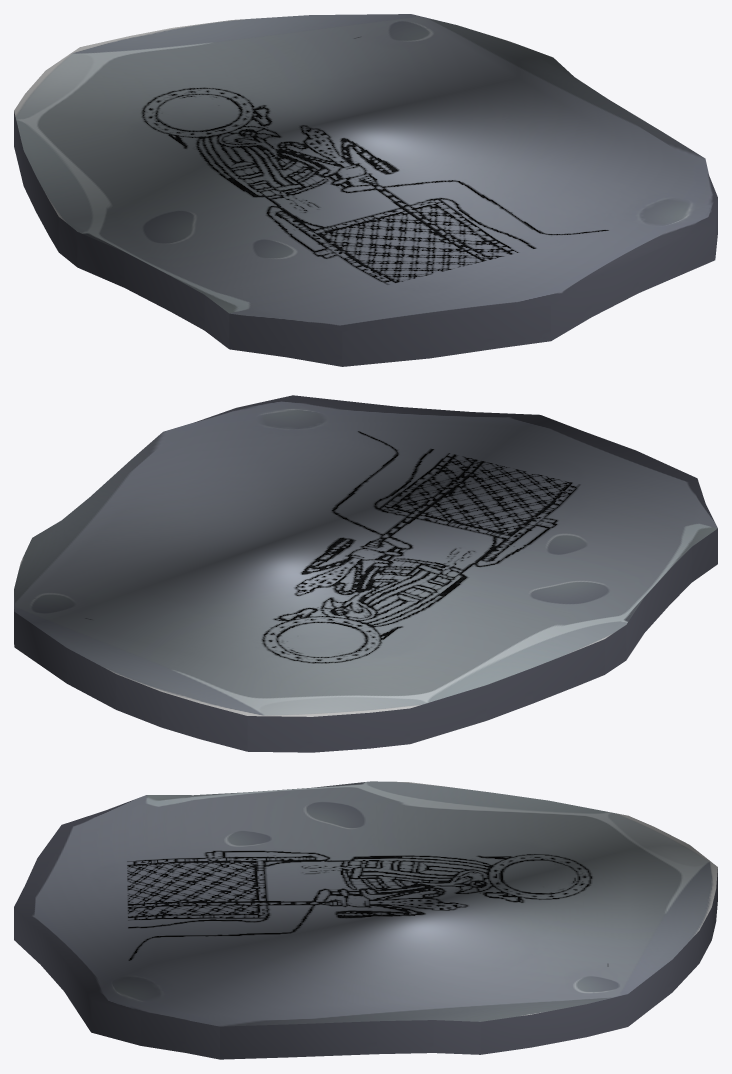
The model's file is runeRa.glb.
3 renders of one model, top to bottom at view 1: azimuth 30°, elevation 25°; view 2: azimuth 150°, elevation 25°; view 3: azimuth 270°, elevation 25°, orthographic. The views are drawn at different scales.
Parts seen in each view (by area): view 1: rune; view 2: rune; view 3: rune.
Boxes of the visible parts, box(x1,y1,x2,y2) form: rune: box(14, 14, 717, 366); rune: box(14, 395, 717, 752); rune: box(14, 781, 717, 1059).
Size of the model in its own units: 0.8115 by 0.0509 by 0.9844.
Materials: 1 (1 with a texture image).
